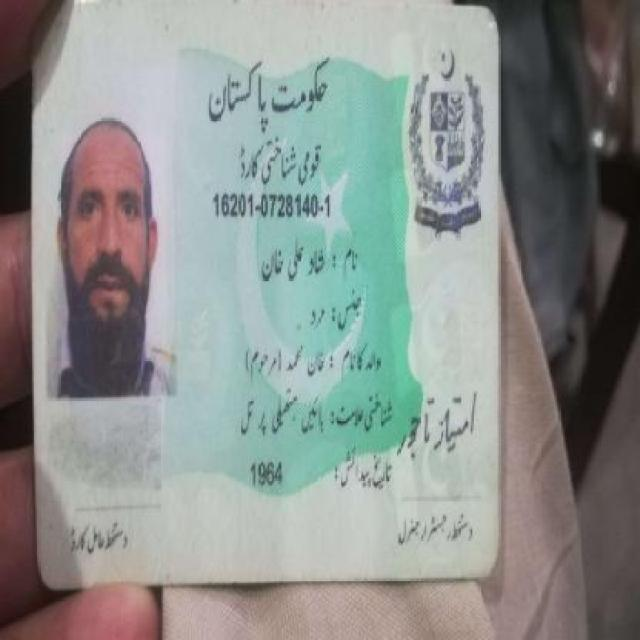Front: (26, 6, 509, 583)
